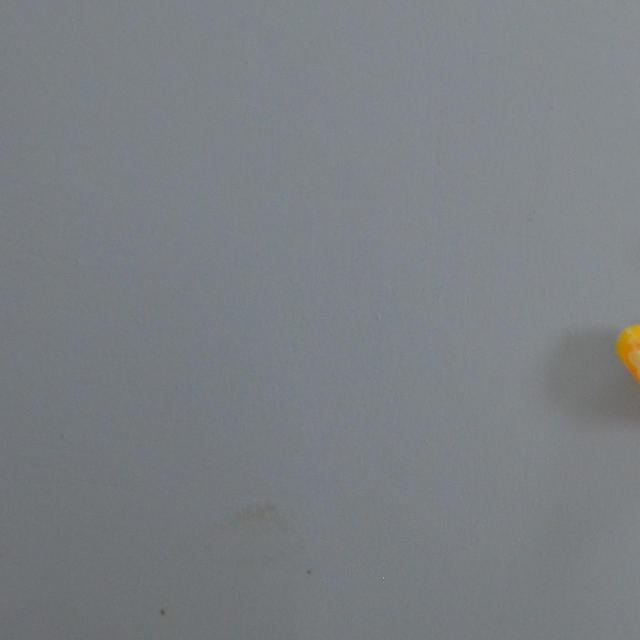pelicula: (614, 320, 640, 427)
